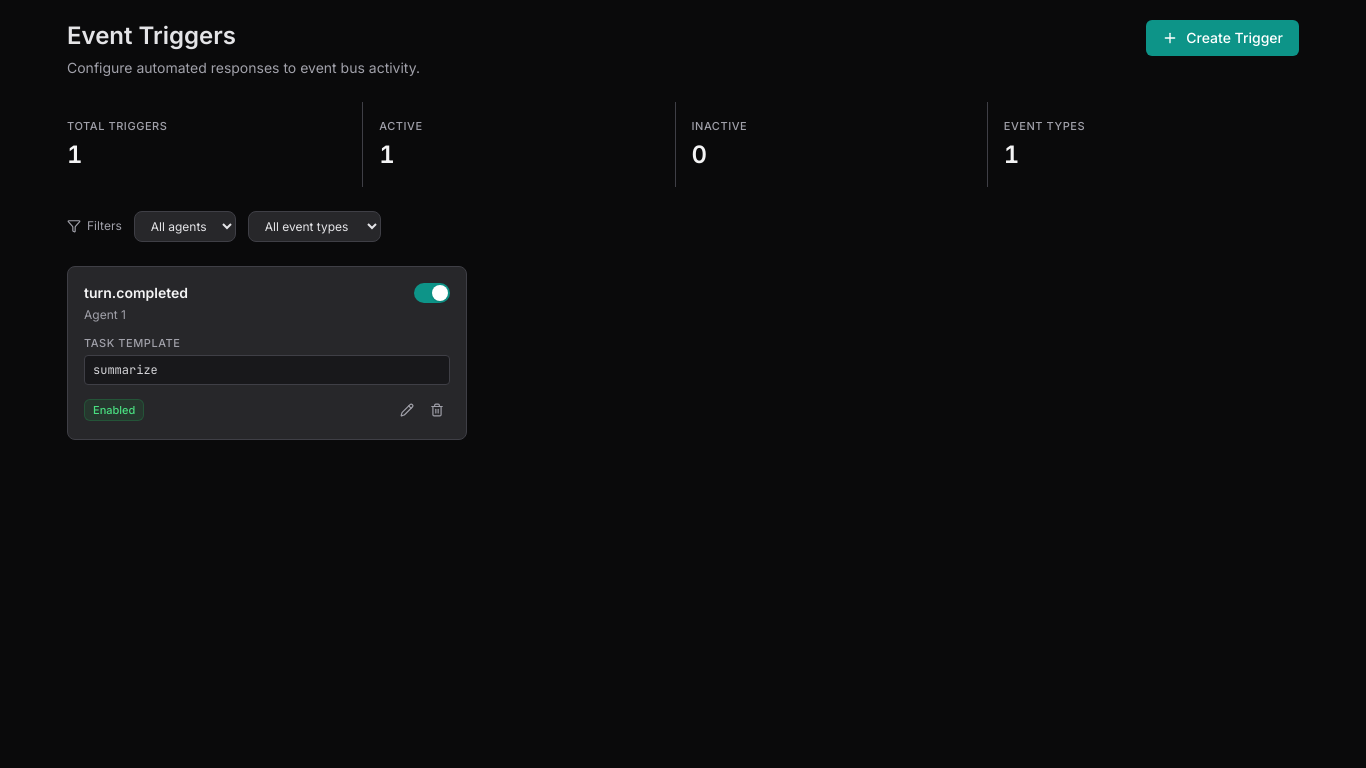
Test: TriggersPage › shows the server mutation detail when saving fails
This screenshot has width=1366, height=768.
Click the button named "Edit trigger": coordinates (407, 410) [394, 397, 420, 423]
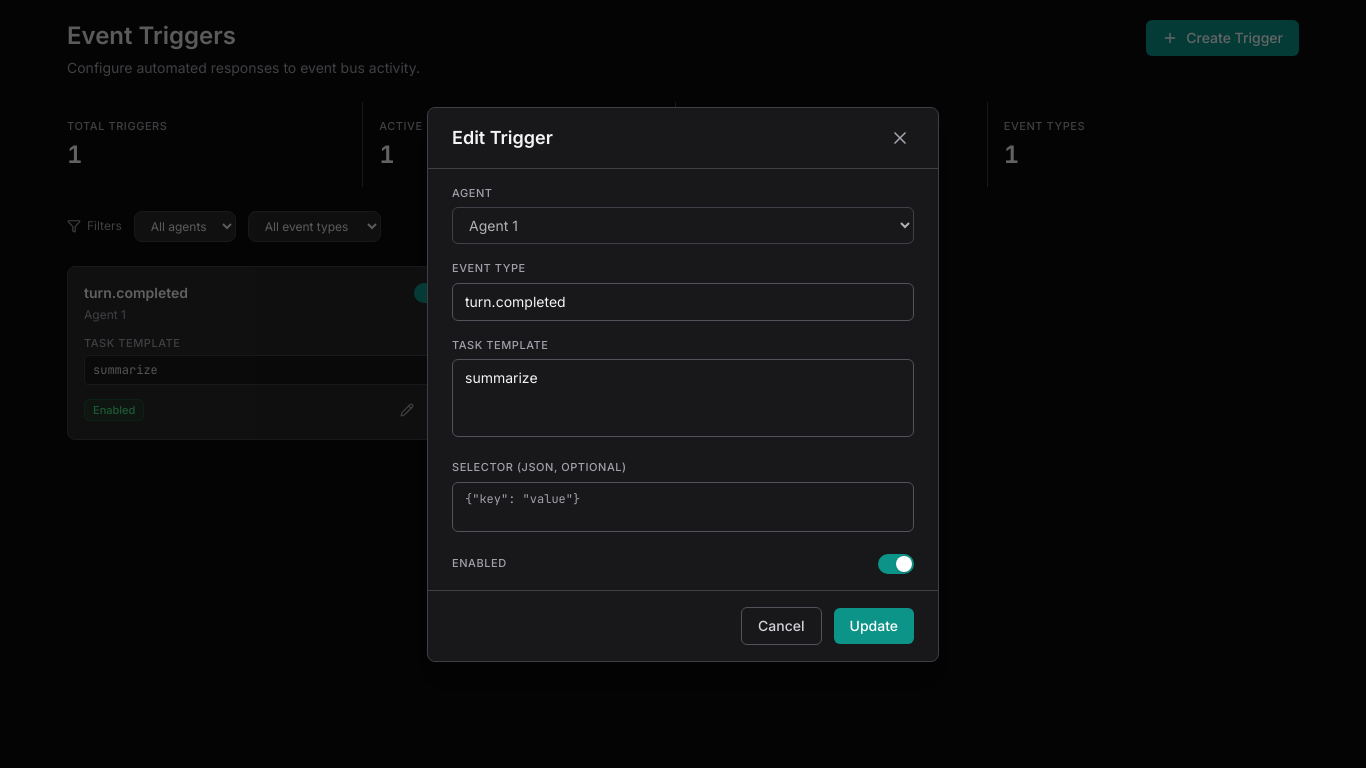
Click the button "Update": coordinates (874, 626) [834, 608, 914, 644]
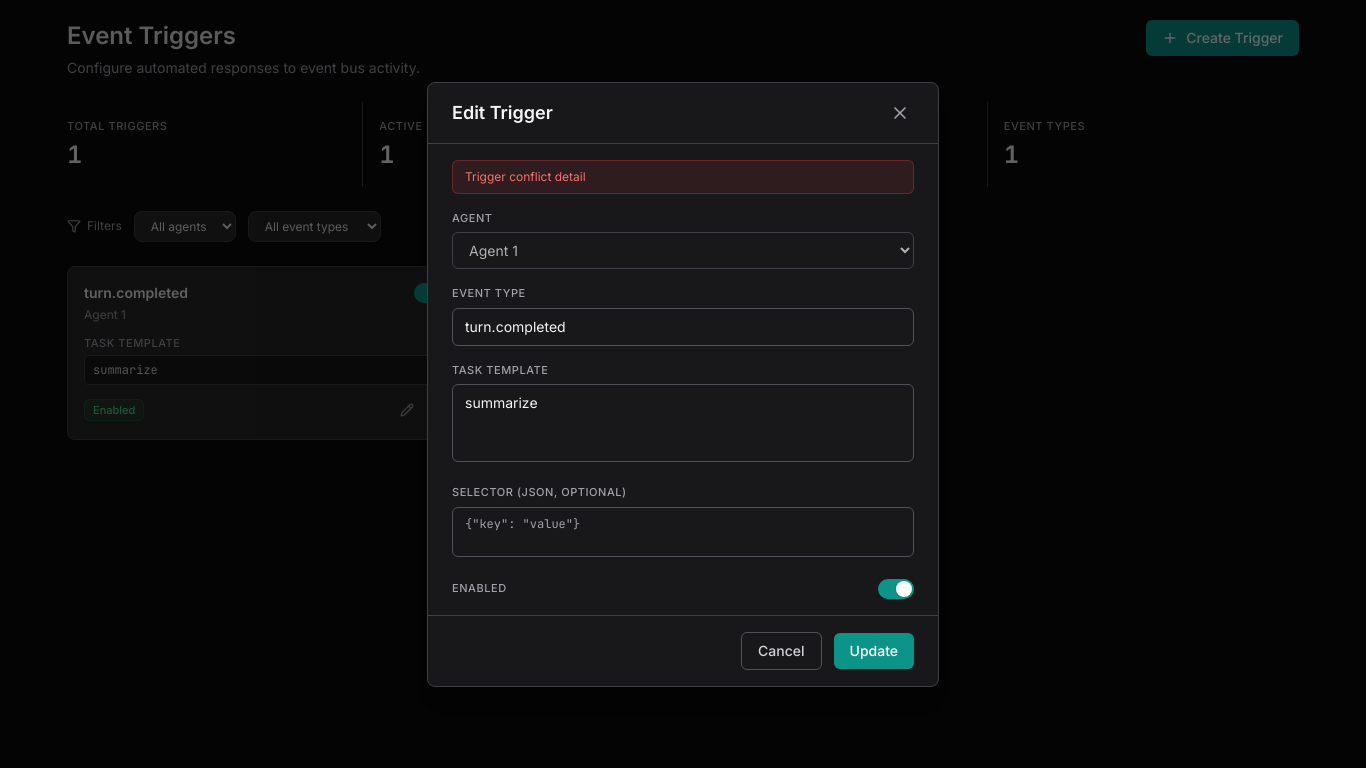
expect the text "Trigger conflict detail" is shown: met, box [452, 160, 914, 194]
